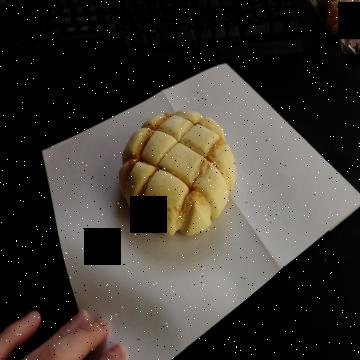melon_bread: (120, 110, 234, 237)
